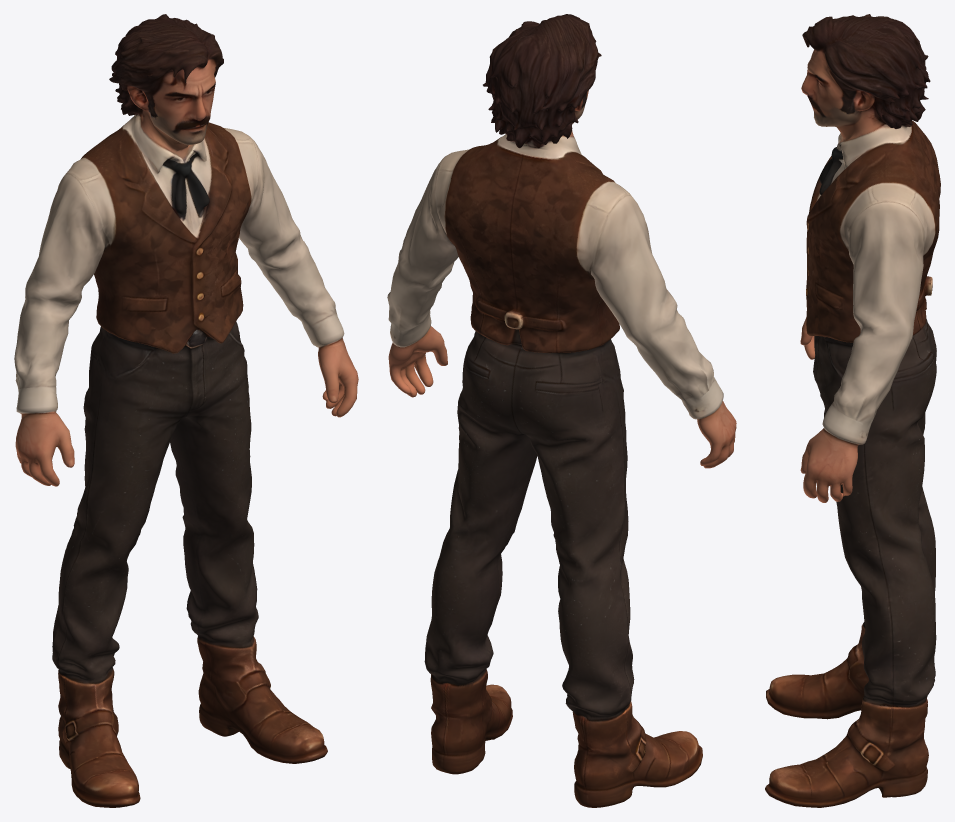
The model's file is bold_cowboy_armsout_dressed_rodin.glb.
3 views of the same model, side by side, from view 1: azimuth 30°, elevation 25°; view 2: azimuth 150°, elevation 25°; view 3: azimuth 270°, elevation 25° (orthographic).
Parts seen in each view (by area): view 1: model; view 2: model; view 3: model.
Boxes of the visible parts, x1,y1,x2,y2 form: model: (14, 14, 358, 807); model: (387, 14, 736, 807); model: (765, 14, 940, 807).
Size of the model in its own units: 0.8994 by 1.89 by 0.411.
1 material, 1 textured.
